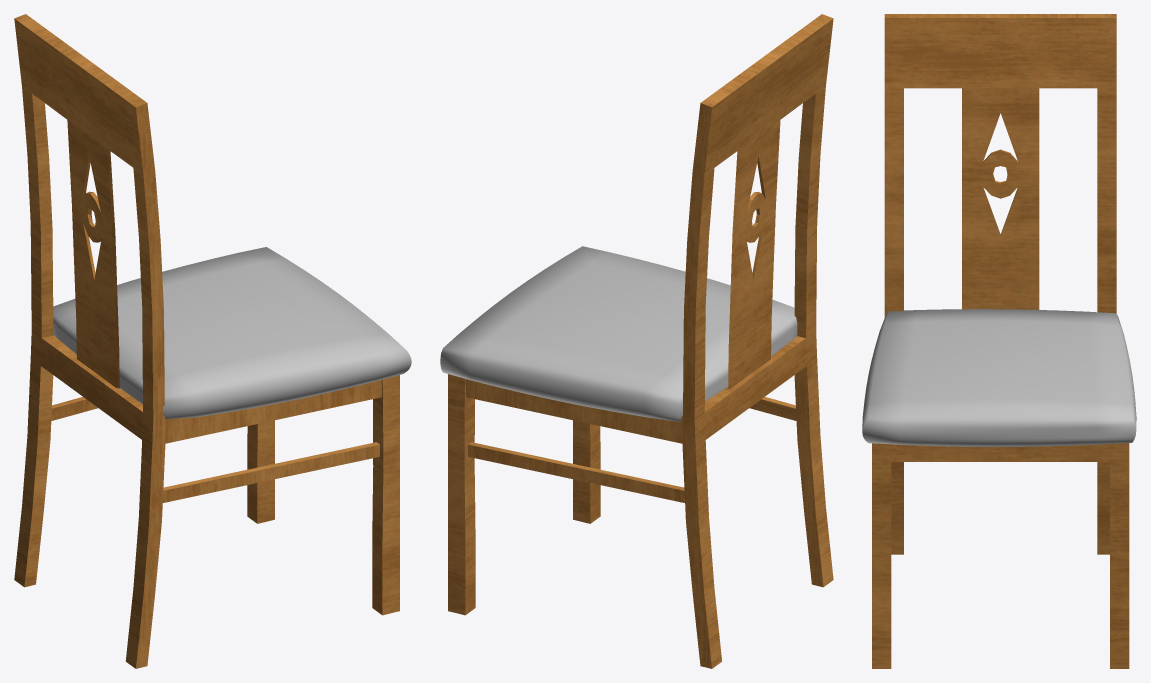
File: chair.glb
3 views of the same model, side by side, from view 1: azimuth 30°, elevation 25°; view 2: azimuth 150°, elevation 25°; view 3: azimuth 270°, elevation 25° (orthographic). The views are drawn at different scales.
Parts seen in each view (by area): view 1: Silla; view 2: Silla; view 3: Silla.
Part boxes in pixels (x1,y1,x2,y2): Silla: [14, 14, 411, 668]; Silla: [440, 14, 833, 668]; Silla: [862, 14, 1136, 668].
Size of the model in its own units: 0.9929 by 2 by 0.9257.
Materials: 1 (1 with a texture image).
